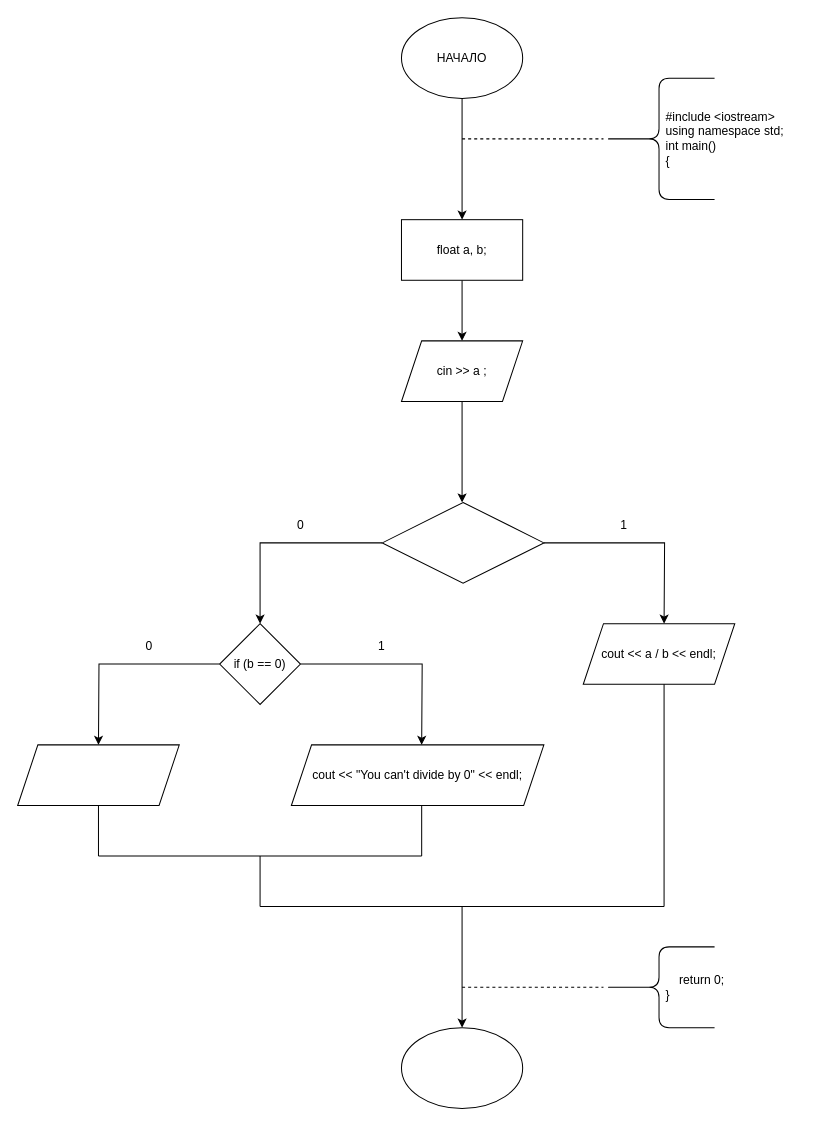
Image size: 833x1126. Some labels were removed from this diagram. Each missing label, with the box of its shape:
cout << 0 << endl;: (17, 744, 179, 805)
if ((b != 0) && (a != 0)): (381, 501, 544, 583)
КОНЕЦ: (400, 1027, 523, 1108)
